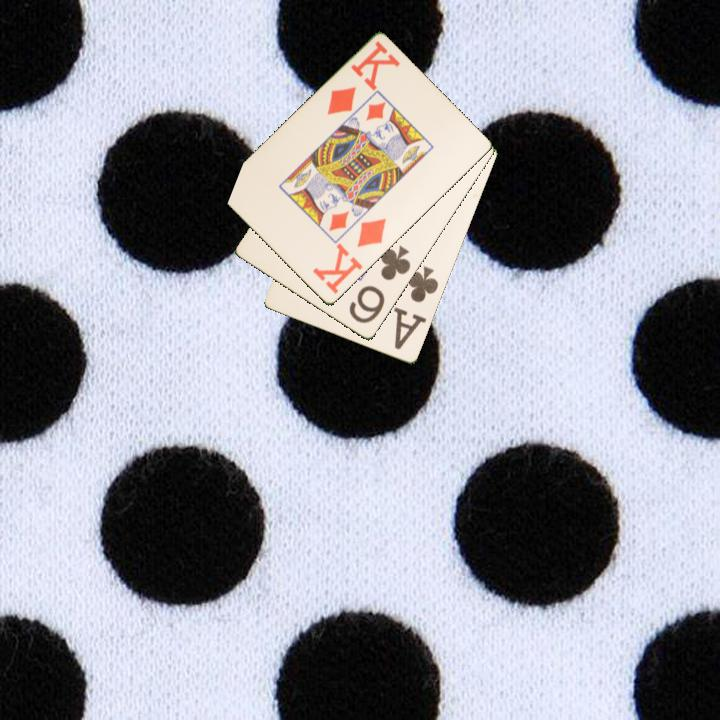6c: (345, 242, 414, 327)
Ac: (391, 263, 442, 353)
Kd: (309, 215, 389, 297), (324, 37, 403, 118)
